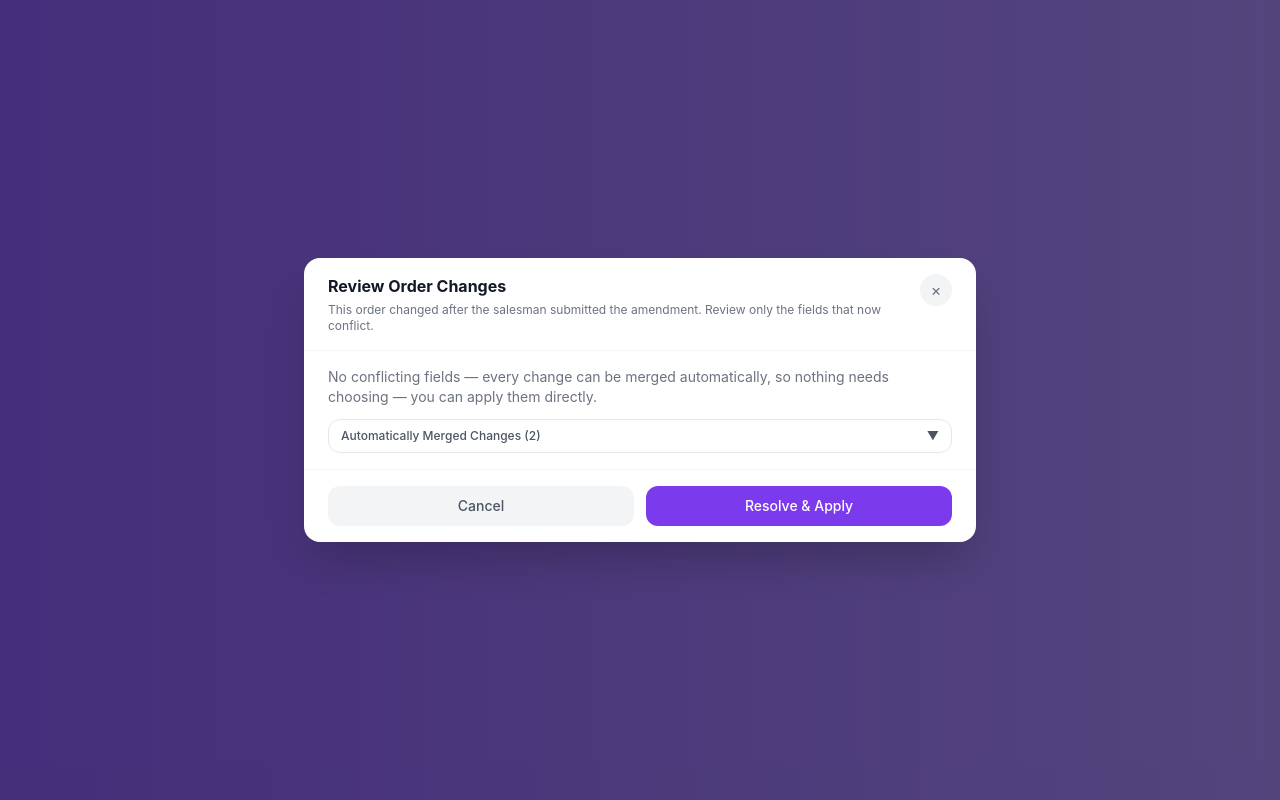
Test: AmendmentRebaseReview — Resolve & Apply gating › PERMISSION denied: the server's exact reason is shown, the modal stays open, nothing is reported as applied
The image size is (1280, 800).
Click the button "Resolve & Apply" at (799, 506), box top-left (646, 486), bottom-right (952, 526)
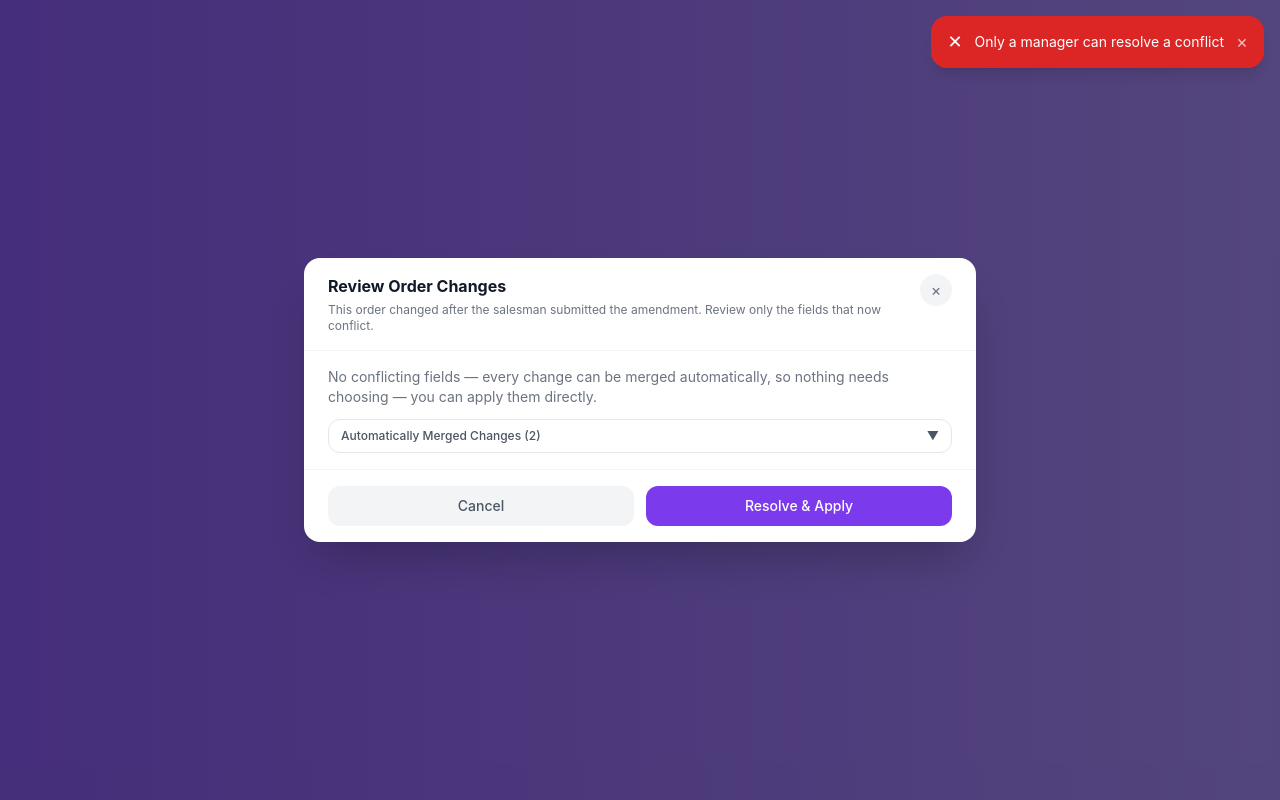
Expected: the text "Only a manager can resolve a conflict" is shown, top-left (974, 32), bottom-right (1224, 52)
